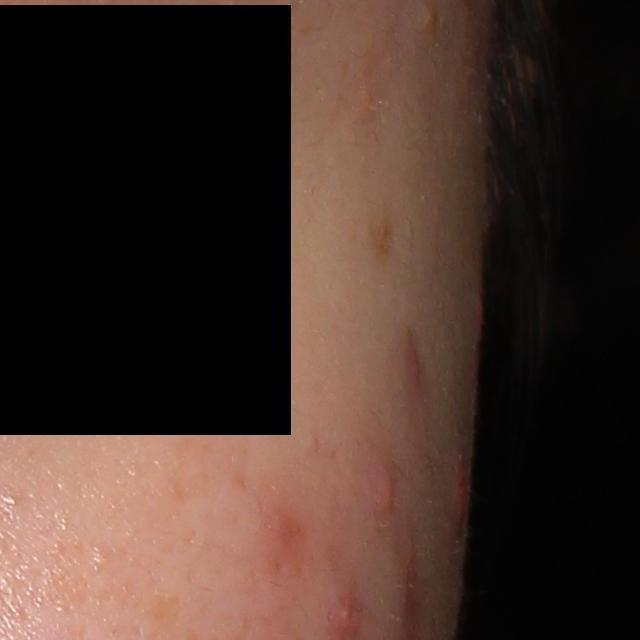comedo: (417, 1, 440, 36)
papule: (366, 454, 401, 517), (327, 589, 361, 640), (452, 455, 474, 521)
